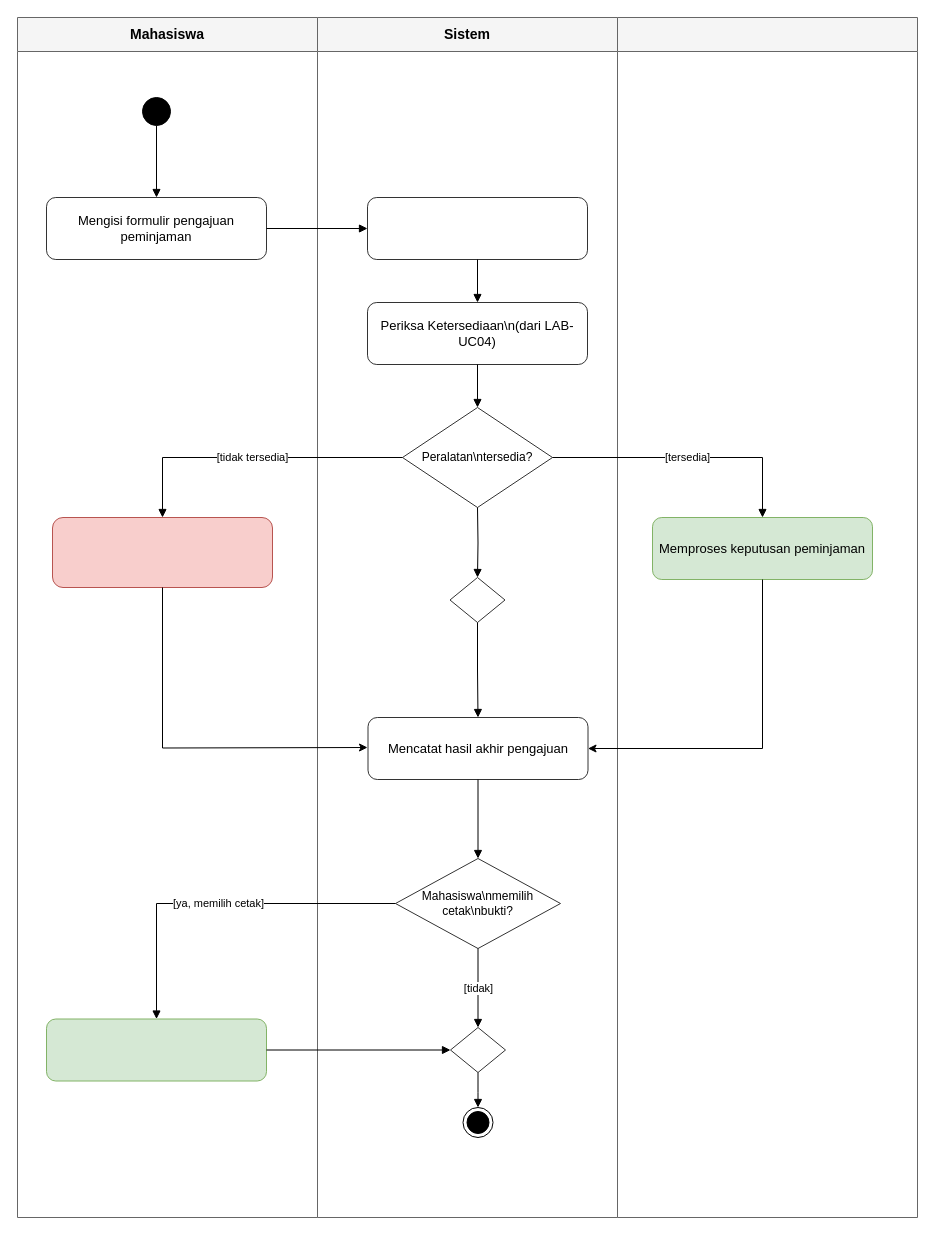
Image size: 935x1235. Some labels were removed from this diagram. Here are the shapes that lost their labels. From the top down, the box of each, then its label:
(366, 196, 588, 260): Menyimpan data pengajuan peminjaman
(52, 516, 272, 588): Menerima pemberitahuan pengajuan tidak terpenuhi
(616, 16, 918, 1218): Petugas Laboratorium
(46, 1018, 266, 1081): Cetak Bukti Pengajuan\n(dari LAB-UC05)
